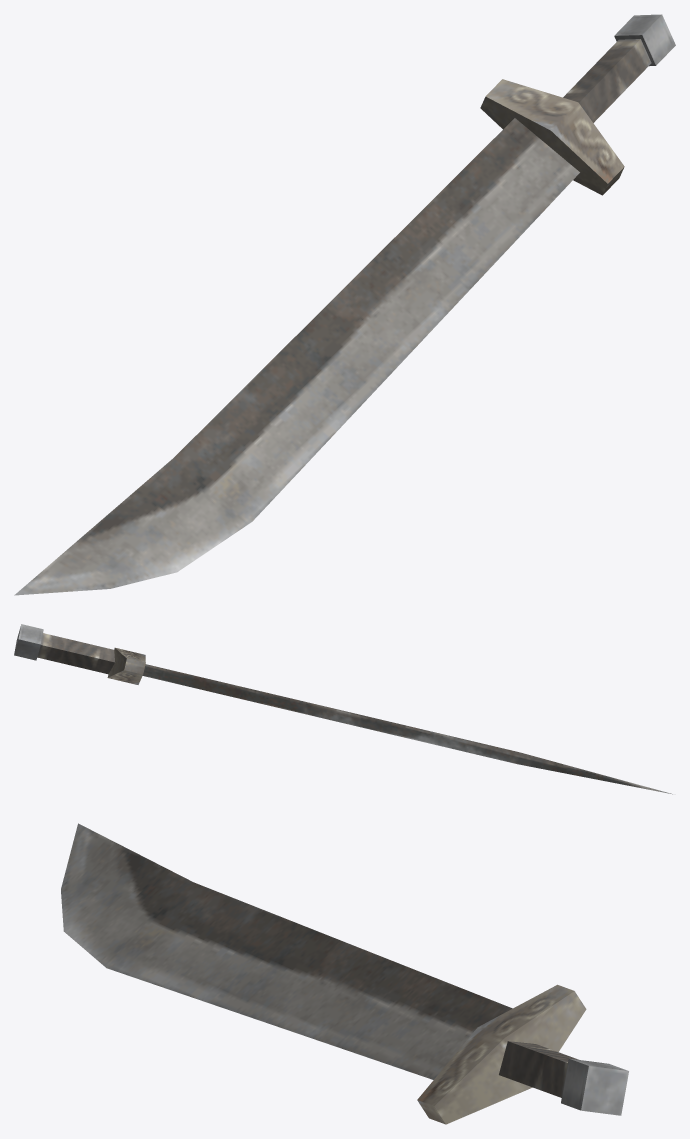
The model's file is 2005_Item_bingpi_4.FBX.
The picture shows the model from 3 angles, top to bottom: view 1: azimuth 30°, elevation 25°; view 2: azimuth 150°, elevation 25°; view 3: azimuth 270°, elevation 25°; orthographic projection. The views are drawn at different scales.
Visible parts, largest first — view 1: 2005_Item_bingpi_4; view 2: 2005_Item_bingpi_4; view 3: 2005_Item_bingpi_4.
Part boxes in pixels (<box>): 2005_Item_bingpi_4: <box>14,14,675,595</box>; 2005_Item_bingpi_4: <box>14,624,672,794</box>; 2005_Item_bingpi_4: <box>61,823,628,1124</box>.
Bounding box in the file's own units: 152 × 38.79 × 70.06.
